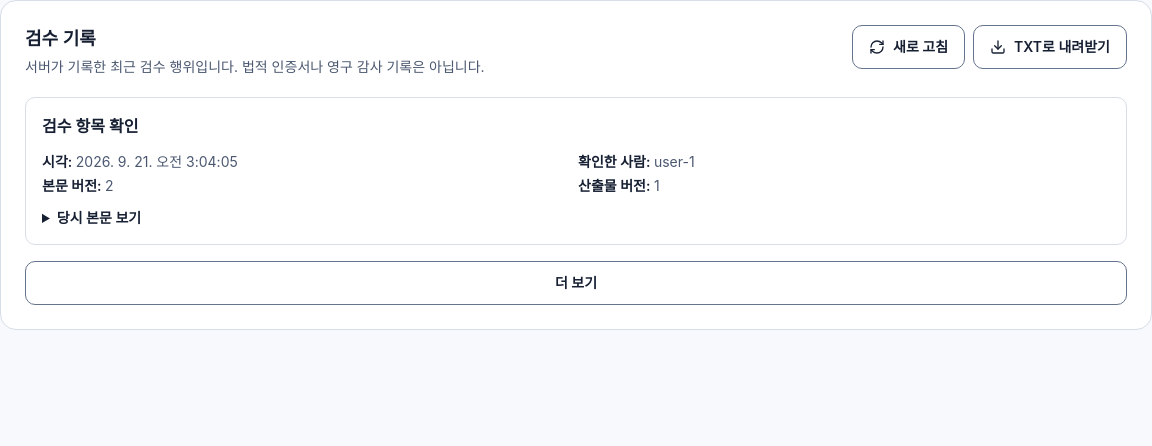
Scenario: ReviewHistoryPanel › 더 보기 응답은 event_id로 중복을 제거하고 cursor를 이어 간다
The width and height of the screenshot is (1152, 446).
Click the button "더 보기" at point(576, 283), box [25, 261, 1127, 305]
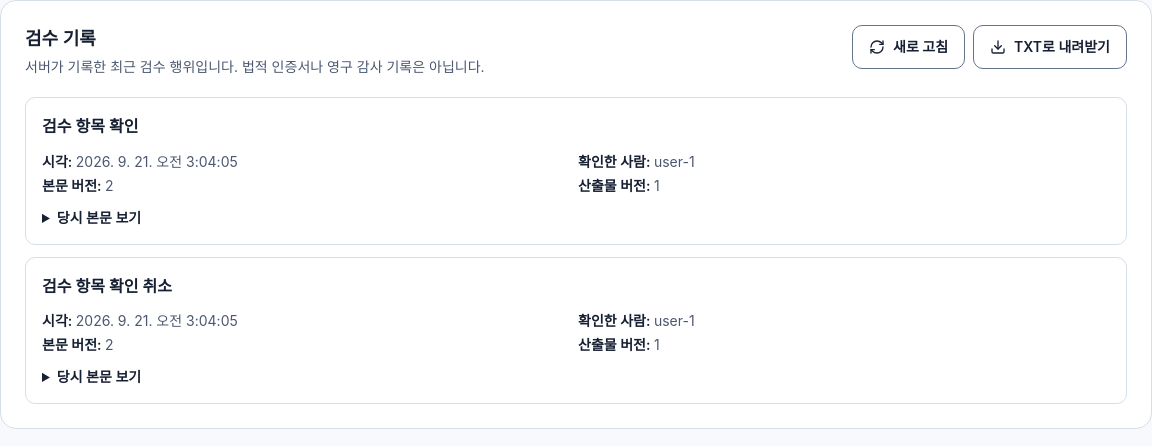
Check: the heading "검수 항목 확인 취소" is shown, box [42, 274, 172, 299]
Check: the button "더 보기" is gone
